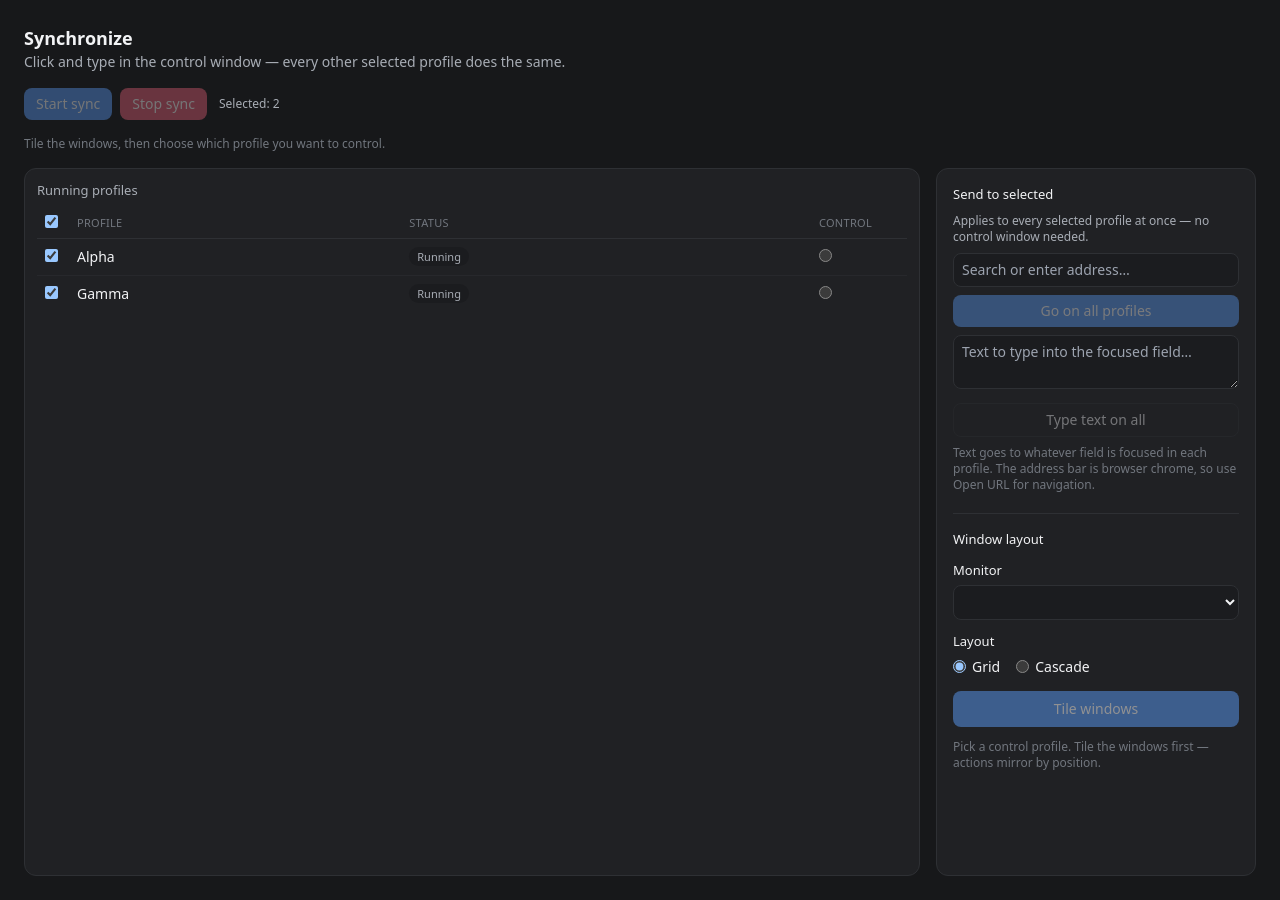
Test: SynchronizePage › starts input sync with the chosen control and never mirrors it onto itself
Check: the button "Start sync" is disabled, box [24, 88, 112, 120]
Click the radio button named "control" at (826, 255), box [819, 248, 832, 262]
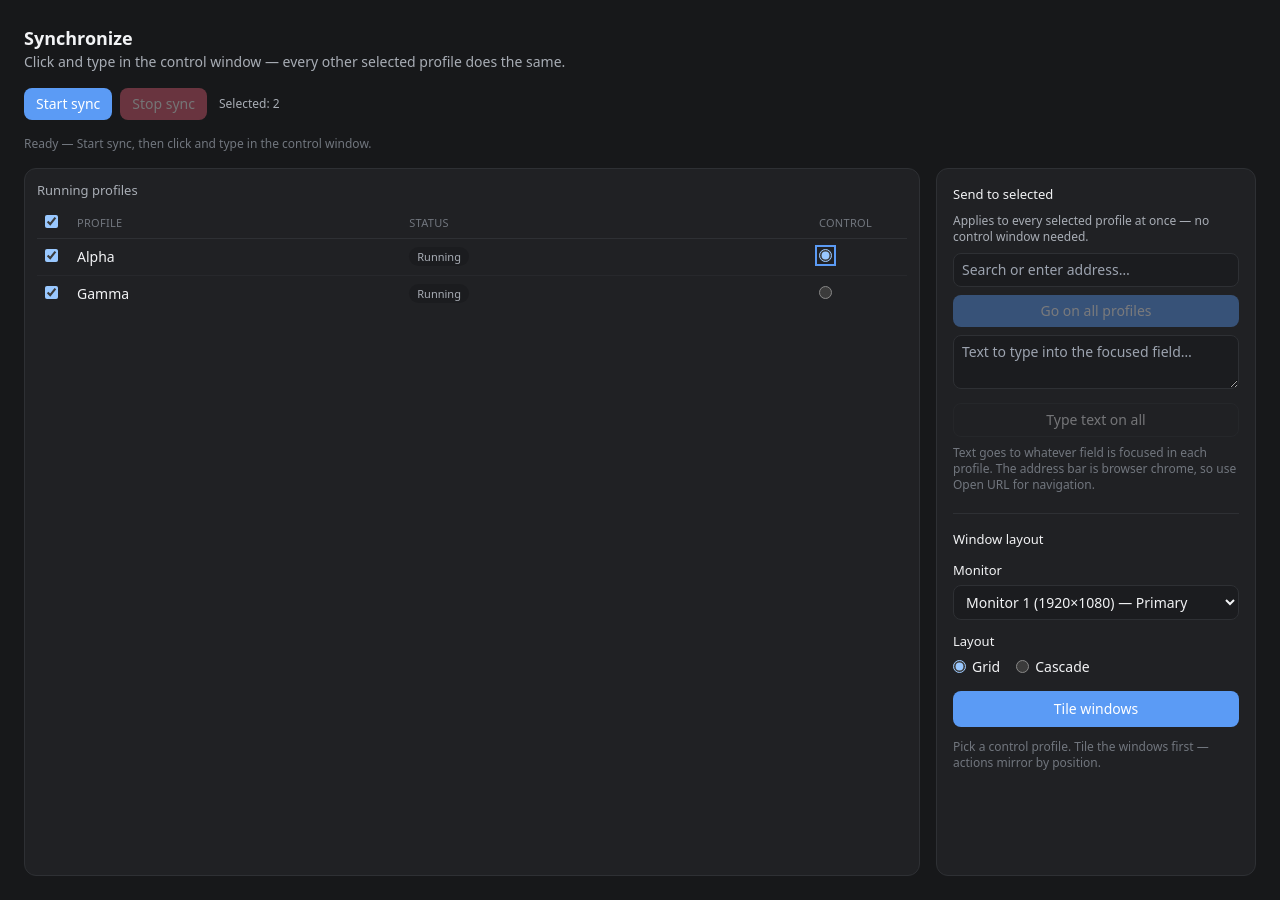
Check: the button "Start sync" is enabled
Click the button "Start sync" at (68, 104), box [24, 88, 112, 120]
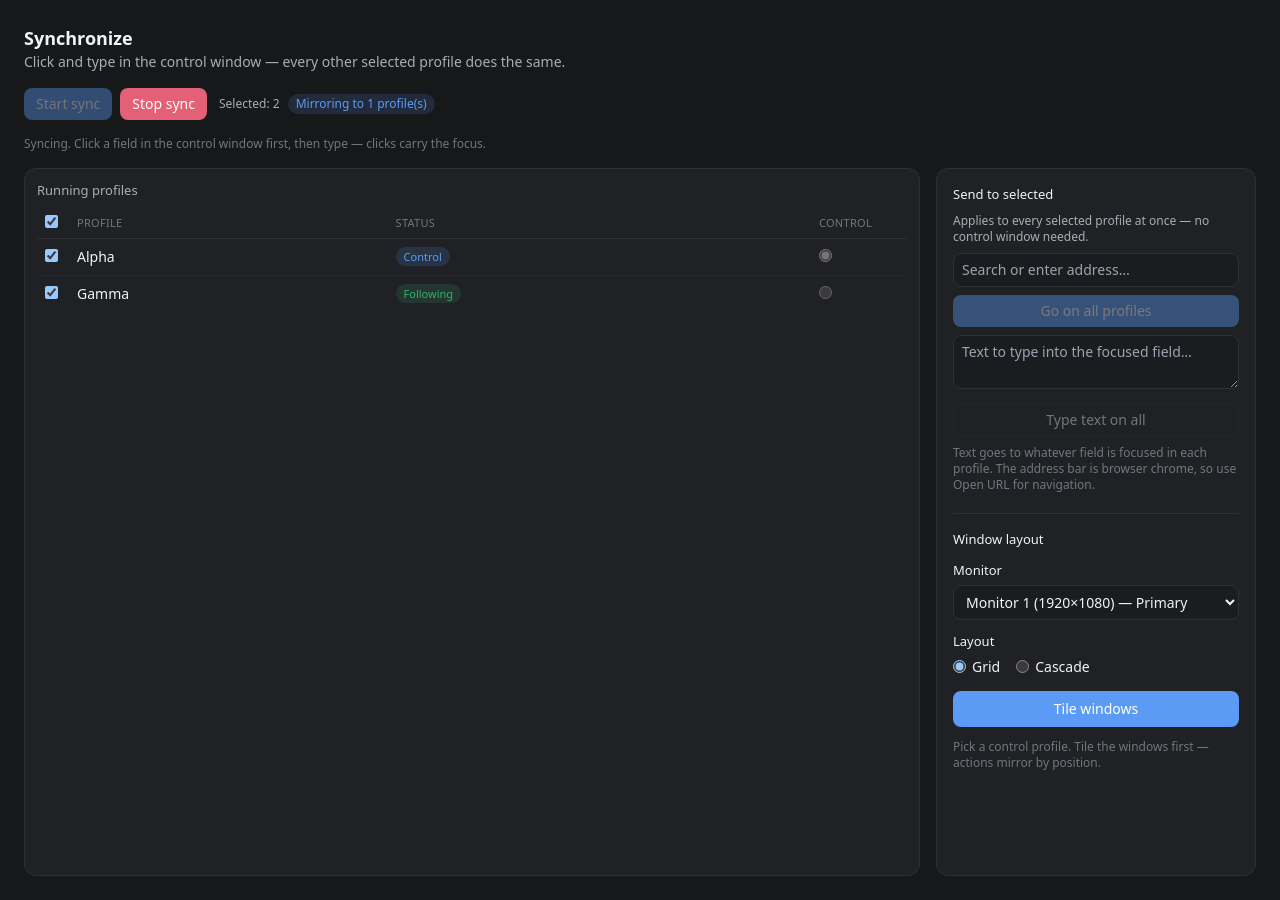
Check: the button "Stop sync" is enabled, box [120, 88, 207, 120]
Check: the button "Start sync" is disabled, box [24, 88, 112, 120]
